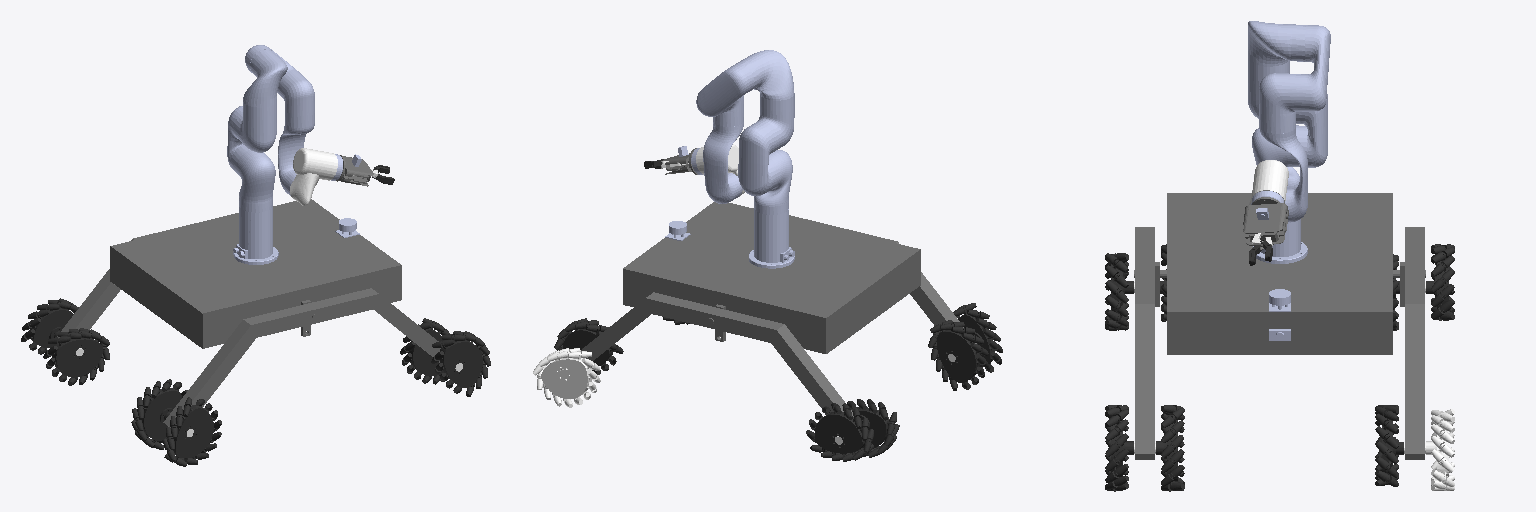
--- What the picture shows (computed from the rendered views, not written in the file) ---
3 views of the same robot in one strip: view 1: azimuth 30°, elevation 25°; view 2: azimuth 150°, elevation 25°; view 3: azimuth 270°, elevation 25° (orthographic).
Model knight_rover_new with 30 links and 29 joints (10 revolute, 4 continuous, 15 fixed), rooted at robot_base_link, posed all joints at 0.
Visible links, largest first — view 1: robot_base_link, right_suspension, link_2, BR_wheel_RR, BR_wheel_LR, FR_wheel_RR, link_1, BL_wheel_RR, arm_base_link, link_3, link_5, BL_wheel_LR (+4 smaller); view 2: robot_base_link, left_suspension, link_2, BL_wheel_RR, BL_wheel_LR, FL_wheel_LR, link_3, link_4, arm_base_link, link_1, FR_wheel_LR, BR_wheel_LR (+2 smaller); view 3: robot_base_link, left_suspension, right_suspension, link_2, link_3, FR_wheel_RR, FL_wheel_RR, FL_wheel_LR, FR_wheel_LR, BR_wheel_RR, BL_wheel_LR, gripper_base (+4 smaller).
Link boxes in pixels (bbox=[...]): robot_base_link: bbox=[110, 199, 401, 348]; right_suspension: bbox=[163, 288, 440, 427]; link_2: bbox=[227, 49, 287, 167]; BR_wheel_RR: bbox=[163, 397, 221, 466]; BR_wheel_LR: bbox=[43, 328, 109, 385]; FR_wheel_RR: bbox=[431, 331, 490, 396]; link_1: bbox=[231, 145, 275, 212]; BL_wheel_RR: bbox=[131, 379, 187, 449]; arm_base_link: bbox=[233, 207, 278, 264]; link_3: bbox=[245, 45, 314, 127]; link_5: bbox=[290, 148, 337, 205]; BL_wheel_LR: bbox=[21, 298, 78, 354]; robot_base_link: bbox=[623, 202, 920, 353]; left_suspension: bbox=[581, 292, 853, 416]; link_2: bbox=[736, 50, 794, 195]; BL_wheel_RR: bbox=[928, 320, 988, 390]; BL_wheel_LR: bbox=[806, 403, 873, 461]; FL_wheel_LR: bbox=[533, 348, 600, 407]; link_3: bbox=[696, 64, 753, 126]; link_4: bbox=[703, 122, 743, 203]; arm_base_link: bbox=[749, 209, 794, 268]; link_1: bbox=[754, 150, 792, 214]; FR_wheel_LR: bbox=[554, 318, 623, 374]; BR_wheel_LR: bbox=[847, 399, 899, 457]; robot_base_link: bbox=[1134, 193, 1425, 354]; left_suspension: bbox=[1400, 227, 1424, 459]; right_suspension: bbox=[1135, 227, 1159, 459]; link_2: bbox=[1248, 21, 1327, 167]; link_3: bbox=[1259, 25, 1330, 133]; FR_wheel_RR: bbox=[1105, 405, 1133, 491]; FL_wheel_RR: bbox=[1156, 405, 1184, 491]; FL_wheel_LR: bbox=[1426, 409, 1454, 490]; FR_wheel_LR: bbox=[1375, 405, 1403, 486]; BR_wheel_RR: bbox=[1105, 253, 1133, 330]; BL_wheel_LR: bbox=[1426, 244, 1454, 320]; gripper_base: bbox=[1243, 197, 1288, 245].
Size in the robot's own frame: 1.06 by 0.7978 by 0.9849 metres.
Meshes: 30 distinct files referenced, 30 mesh visuals loaded (30 binary STL).

robot.urdf — knight_rover_new:
<?xml version="1.0" encoding="utf-8"?>
<!-- This URDF was automatically created by SolidWorks to URDF Exporter! Originally created by Stephen Brawner ([email redacted]) 
     Commit Version: 1.6.0-4-g7f85cfe  Build Version: 1.6.7995.38578
     For more information, please see http://wiki.ros.org/sw_urdf_exporter -->
<robot
  name="knight_rover_new">
  <link
    name="robot_base_link">
    <inertial>
      <origin
        xyz="-3.51409534725501E-05 2.02030762991075E-17 0.054452787160501"
        rpy="0 0 0" />
      <mass
        value="35.9333306293393" />
      <inertia
        ixx="0.829440467624282"
        ixy="-3.19664415872315E-17"
        ixz="-1.261122050565E-05"
        iyy="1.26474036562949"
        iyz="9.12630764099463E-18"
        izz="2.0232174193065" />
    </inertial>
    <visual>
      <origin
        xyz="0 0 0"
        rpy="0 0 0" />
      <geometry>
        <mesh
          filename="package://knight_rover_new/meshes/robot_base_link.STL" />
      </geometry>
      <material
        name="">
        <color
          rgba="0.501960784313725 0.501960784313725 0.501960784313725 1" />
      </material>
    </visual>
    <collision>
      <origin
        xyz="0 0 0"
        rpy="0 0 0" />
      <geometry>
        <mesh
          filename="package://knight_rover_new/meshes/robot_base_link.STL" />
      </geometry>
    </collision>
  </link>
  <link
    name="left_suspension">
    <inertial>
      <origin
        xyz="1.72685688207314E-16 -0.0768469466497054 -0.00596606384240272"
        rpy="0 0 0" />
      <mass
        value="2.09033981771279" />
      <inertia
        ixx="0.0143822425075524"
        ixy="2.13129130361425E-17"
        ixz="-3.55136708633844E-18"
        iyy="0.151071620854433"
        iyz="-3.98388809734623E-05"
        izz="0.164728757444313" />
    </inertial>
    <visual>
      <origin
        xyz="0 0 0"
        rpy="0 0 0" />
      <geometry>
        <mesh
          filename="package://knight_rover_new/meshes/left_suspension.STL" />
      </geometry>
      <material
        name="">
        <color
          rgba="0.501960784313725 0.501960784313725 0.501960784313725 1" />
      </material>
    </visual>
    <collision>
      <origin
        xyz="0 0 0"
        rpy="0 0 0" />
      <geometry>
        <mesh
          filename="package://knight_rover_new/meshes/left_suspension.STL" />
      </geometry>
    </collision>
  </link>
  <joint
    name="left_suspension_joint"
    type="revolute">
    <origin
      xyz="-2.9695701971535E-05 0.301625 0.054456965"
      rpy="1.5707963267949 0 0" />
    <parent
      link="robot_base_link" />
    <child
      link="left_suspension" />
    <axis
      xyz="0 0 1" />
    <limit
      lower="-0.1722"
      upper="0.1722"
      effort="11"
      velocity="2" />
  </joint>
  <link
    name="F_shaft_LR">
    <inertial>
      <origin
        xyz="-0.000275564760709279 -0.000548784014590159 0"
        rpy="0 0 0" />
      <mass
        value="0.0732032651136589" />
      <inertia
        ixx="0.000144362575624441"
        ixy="1.94226191261808E-07"
        ixz="-2.41141585894578E-21"
        iyy="0.0001446518466667"
        iyz="1.85180087888106E-21"
        izz="5.64751116677257E-06" />
    </inertial>
    <visual>
      <origin
        xyz="0 0 0"
        rpy="0 0 0" />
      <geometry>
        <mesh
          filename="package://knight_rover_new/meshes/F_shaft_LR.STL" />
      </geometry>
      <material
        name="">
        <color
          rgba="1 1 1 1" />
      </material>
    </visual>
    <collision>
      <origin
        xyz="0 0 0"
        rpy="0 0 0" />
      <geometry>
        <mesh
          filename="package://knight_rover_new/meshes/F_shaft_LR.STL" />
      </geometry>
    </collision>
  </link>
  <joint
    name="F_shaft_LR_joint"
    type="continuous">
    <origin
      xyz="0.433046617948688 -0.235688617948681 -0.00635000000000002"
      rpy="0 0 0" />
    <parent
      link="left_suspension" />
    <child
      link="F_shaft_LR" />
    <axis
      xyz="0 0 1" />
  </joint>
  <link
    name="FL_wheel_LR">
    <inertial>
      <origin
        xyz="-0.00728768342739827 -0.0146448321390538 0.00050848063236375"
        rpy="0 0 0" />
      <mass
        value="0.549396445319131" />
      <inertia
        ixx="0.000445171241559337"
        ixy="9.78659019529863E-05"
        ixz="-6.94813455862534E-07"
        iyy="0.000593200318687097"
        iyz="3.02640502246261E-07"
        izz="0.000936282884274775" />
    </inertial>
    <visual>
      <origin
        xyz="0 0 0"
        rpy="0 0 0" />
      <geometry>
        <mesh
          filename="package://knight_rover_new/meshes/FL_wheel_LR.STL" />
      </geometry>
      <material
        name="">
        <color
          rgba="1 1 1 1" />
      </material>
    </visual>
    <collision>
      <origin
        xyz="0 0 0"
        rpy="0 0 0" />
      <geometry>
        <mesh
          filename="package://knight_rover_new/meshes/FL_wheel_LR.STL" />
      </geometry>
    </collision>
  </link>
  <joint
    name="FL_wheel_LR_joint"
    type="fixed">
    <origin
      xyz="0 0 -0.0635000000000001"
      rpy="0 0 0" />
    <parent
      link="F_shaft_LR" />
    <child
      link="FL_wheel_LR" />
    <axis
      xyz="0 0 0" />
  </joint>
  <link
    name="FR_wheel_LR">
    <inertial>
      <origin
        xyz="0.00740533402318116 0.0146161440808339 -0.000508480759078611"
        rpy="0 0 0" />
      <mass
        value="0.549396404481812" />
      <inertia
        ixx="0.000446634643970396"
        ixy="9.8954363392273E-05"
        ixz="6.92370335923828E-07"
        iyy="0.000591737101133644"
        iyz="-3.07507000713996E-07"
        izz="0.000936283087584822" />
    </inertial>
    <visual>
      <origin
        xyz="0 0 0"
        rpy="0 0 0" />
      <geometry>
        <mesh
          filename="package://knight_rover_new/meshes/FR_wheel_LR.STL" />
      </geometry>
      <material
        name="">
        <color
          rgba="0.250980392156863 0.250980392156863 0.250980392156863 1" />
      </material>
    </visual>
    <collision>
      <origin
        xyz="0 0 0"
        rpy="0 0 0" />
      <geometry>
        <mesh
          filename="package://knight_rover_new/meshes/FR_wheel_LR.STL" />
      </geometry>
    </collision>
  </link>
  <joint
    name="FR_wheel_LR_joint"
    type="fixed">
    <origin
      xyz="0 0 0.0635"
      rpy="0 0 0" />
    <parent
      link="F_shaft_LR" />
    <child
      link="FR_wheel_LR" />
    <axis
      xyz="0 0 0" />
  </joint>
  <link
    name="B_shaft_LR">
    <inertial>
      <origin
        xyz="-0.000102000774275024 -0.000605554022413884 -5.55111512312578E-17"
        rpy="0 0 0" />
      <mass
        value="0.0732032651136589" />
      <inertia
        ixx="0.000144278410024616"
        ixy="7.93302867395647E-08"
        ixz="-1.70773371535388E-20"
        iyy="0.000144736012266526"
        iyz="4.51423547668717E-21"
        izz="5.64751116677256E-06" />
    </inertial>
    <visual>
      <origin
        xyz="0 0 0"
        rpy="0 0 0" />
      <geometry>
        <mesh
          filename="package://knight_rover_new/meshes/B_shaft_LR.STL" />
      </geometry>
      <material
        name="">
        <color
          rgba="1 1 1 1" />
      </material>
    </visual>
    <collision>
      <origin
        xyz="0 0 0"
        rpy="0 0 0" />
      <geometry>
        <mesh
          filename="package://knight_rover_new/meshes/B_shaft_LR.STL" />
      </geometry>
    </collision>
  </link>
  <joint
    name="B_shaft_LR_joint"
    type="continuous">
    <origin
      xyz="-0.433046617948688 -0.235688617948681 -0.00635000000000002"
      rpy="0 0 0" />
    <parent
      link="left_suspension" />
    <child
      link="B_shaft_LR" />
    <axis
      xyz="0 0 1" />
  </joint>
  <link
    name="BL_wheel_LR">
    <inertial>
      <origin
        xyz="0.00266350646928726 0.0161679555464226 0.000510210330815108"
        rpy="0 0 0" />
      <mass
        value="0.547534762417823" />
      <inertia
        ixx="0.000399445213010371"
        ixy="3.90952412727286E-05"
        ixz="-7.49471063720292E-07"
        iyy="0.000630414635441886"
        iyz="8.43333194813395E-08"
        izz="0.000927863923073197" />
    </inertial>
    <visual>
      <origin
        xyz="0 0 0"
        rpy="0 0 0" />
      <geometry>
        <mesh
          filename="package://knight_rover_new/meshes/BL_wheel_LR.STL" />
      </geometry>
      <material
        name="">
        <color
          rgba="0.250980392156863 0.250980392156863 0.250980392156863 1" />
      </material>
    </visual>
    <collision>
      <origin
        xyz="0 0 0"
        rpy="0 0 0" />
      <geometry>
        <mesh
          filename="package://knight_rover_new/meshes/BL_wheel_LR.STL" />
      </geometry>
    </collision>
  </link>
  <joint
    name="BL_wheel_LR_joint"
    type="fixed">
    <origin
      xyz="0 0 -0.0635"
      rpy="0 0 0" />
    <parent
      link="B_shaft_LR" />
    <child
      link="BL_wheel_LR" />
    <axis
      xyz="0 0 0" />
  </joint>
  <link
    name="BR_wheel_LR">
    <inertial>
      <origin
        xyz="-0.00277533864218887 -0.0161213368308621 -0.000510210708511649"
        rpy="0 0 0" />
      <mass
        value="0.54753441534668" />
      <inertia
        ixx="0.000400031841409848"
        ixy="4.07852011130894E-05"
        ixz="7.48566841143591E-07"
        iyy="0.000629826877269507"
        iyz="-8.96933677215981E-08"
        izz="0.00092786281766356" />
    </inertial>
    <visual>
      <origin
        xyz="0 0 0"
        rpy="0 0 0" />
      <geometry>
        <mesh
          filename="package://knight_rover_new/meshes/BR_wheel_LR.STL" />
      </geometry>
      <material
        name="">
        <color
          rgba="0.250980392156863 0.250980392156863 0.250980392156863 1" />
      </material>
    </visual>
    <collision>
      <origin
        xyz="0 0 0"
        rpy="0 0 0" />
      <geometry>
        <mesh
          filename="package://knight_rover_new/meshes/BR_wheel_LR.STL" />
      </geometry>
    </collision>
  </link>
  <joint
    name="BR_wheel_LR_joint"
    type="fixed">
    <origin
      xyz="0 0 0.0635"
      rpy="0 0 0" />
    <parent
      link="B_shaft_LR" />
    <child
      link="BR_wheel_LR" />
    <axis
      xyz="0 0 0" />
  </joint>
  <link
    name="right_suspension">
    <inertial>
      <origin
        xyz="5.94858130497897E-17 -0.0768469466497054 0.00596606384240278"
        rpy="0 0 0" />
      <mass
        value="2.09033981771279" />
      <inertia
        ixx="0.0143822425075524"
        ixy="9.36229739103627E-19"
        ixz="-3.76479445289107E-19"
        iyy="0.151071620854433"
        iyz="3.98388809734629E-05"
        izz="0.164728757444313" />
    </inertial>
    <visual>
      <origin
        xyz="0 0 0"
        rpy="0 0 0" />
      <geometry>
        <mesh
          filename="package://knight_rover_new/meshes/right_suspension.STL" />
      </geometry>
      <material
        name="">
        <color
          rgba="0.501960784313725 0.501960784313725 0.501960784313725 1" />
      </material>
    </visual>
    <collision>
      <origin
        xyz="0 0 0"
        rpy="0 0 0" />
      <geometry>
        <mesh
          filename="package://knight_rover_new/meshes/right_suspension.STL" />
      </geometry>
    </collision>
  </link>
  <joint
    name="right_suspension_joint"
    type="revolute">
    <origin
      xyz="-2.96957019715361E-05 -0.301625 0.054456965"
      rpy="1.5707963267949 0 0" />
    <parent
      link="robot_base_link" />
    <child
      link="right_suspension" />
    <axis
      xyz="0 0 -1" />
    <limit
      lower="-0.1722"
      upper="0.1722"
      effort="11"
      velocity="2" />
    <mimic
      joint="left_suspension_joint"
      multiplier="-1"
      offset="0" />
  </joint>
  <link
    name="FR_shaft_RR">
    <inertial>
      <origin
        xyz="0.000533453219315305 0.0003041833243565 0"
        rpy="0 0 0" />
      <mass
        value="0.0732032651136589" />
      <inertia
        ixx="0.000144630537335569"
        ixy="2.08408008974911E-07"
        ixz="-1.51404603547328E-20"
        iyy="0.000144383884955572"
        iyz="-1.06677612253128E-20"
        izz="5.64751116677257E-06" />
    </inertial>
    <visual>
      <origin
        xyz="0 0 0"
        rpy="0 0 0" />
      <geometry>
        <mesh
          filename="package://knight_rover_new/meshes/FR_shaft_RR.STL" />
      </geometry>
      <material
        name="">
        <color
          rgba="1 1 1 1" />
      </material>
    </visual>
    <collision>
      <origin
        xyz="0 0 0"
        rpy="0 0 0" />
      <geometry>
        <mesh
          filename="package://knight_rover_new/meshes/FR_shaft_RR.STL" />
      </geometry>
    </collision>
  </link>
  <joint
    name="FR_shaft_RR_joint"
    type="continuous">
    <origin
      xyz="0.433046617948687 -0.235688617948681 0.00635000000000002"
      rpy="0 0 0" />
    <parent
      link="right_suspension" />
    <child
      link="FR_shaft_RR" />
    <axis
      xyz="0 0 -1" />
  </joint>
  <link
    name="FR_wheel_RR">
    <inertial>
      <origin
        xyz="0.0142396465975015 0.00805182697412571 -0.000510211445635955"
        rpy="0 0 0" />
      <mass
        value="0.547533595882271" />
      <inertia
        ixx="0.000577783923555976"
        ixy="0.000104467055038999"
        ixz="-4.04206874654229E-07"
        iyy="0.000452071101419828"
        iyz="6.36410608409607E-07"
        izz="0.000927859172549869" />
    </inertial>
    <visual>
      <origin
        xyz="0 0 0"
        rpy="0 0 0" />
      <geometry>
        <mesh
          filename="package://knight_rover_new/meshes/FR_wheel_RR.STL" />
      </geometry>
      <material
        name="">
        <color
          rgba="0.250980392156863 0.250980392156863 0.250980392156863 1" />
      </material>
    </visual>
    <collision>
      <origin
        xyz="0 0 0"
        rpy="0 0 0" />
      <geometry>
        <mesh
          filename="package://knight_rover_new/meshes/FR_wheel_RR.STL" />
      </geometry>
    </collision>
  </link>
  <joint
    name="FR_wheel_RR_joint"
    type="fixed">
    <origin
      xyz="0 0 0.0635"
      rpy="0 0 0" />
    <parent
      link="FR_shaft_RR" />
    <child
      link="FR_wheel_RR" />
    <axis
      xyz="0 0 0" />
  </joint>
  <link
    name="FL_wheel_RR">
    <inertial>
      <origin
        xyz="-0.0142050302316768 -0.00816775289066476 0.000510211625356249"
        rpy="0 0 0" />
      <mass
        value="0.547533424682197" />
      <inertia
        ixx="0.000576245395570839"
        ixy="0.000105376555008215"
        ixz="4.0892733889422E-07"
        iyy="0.00045360914424117"
        iyz="-6.33718153793749E-07"
        izz="0.000927858700994071" />
    </inertial>
    <visual>
      <origin
        xyz="0 0 0"
        rpy="0 0 0" />
      <geometry>
        <mesh
          filename="package://knight_rover_new/meshes/FL_wheel_RR.STL" />
      </geometry>
      <material
        name="">
        <color
          rgba="0.250980392156863 0.250980392156863 0.250980392156863 1" />
      </material>
    </visual>
    <collision>
      <origin
        xyz="0 0 0"
        rpy="0 0 0" />
      <geometry>
        <mesh
          filename="package://knight_rover_new/meshes/FL_wheel_RR.STL" />
      </geometry>
    </collision>
  </link>
  <joint
    name="FL_wheel_RR_joint"
    type="fixed">
    <origin
      xyz="0 0 -0.0634999999999999"
      rpy="0 0 0" />
    <parent
      link="FR_shaft_RR" />
    <child
      link="FL_wheel_RR" />
    <axis
      xyz="0 0 0" />
  </joint>
  <link
    name="BR_shaft_RR">
    <inertial>
      <origin
        xyz="-0.00055158733402455 0.000269909697784398 1.11022302462516E-16"
        rpy="0 0 0" />
      <mass
        value="0.0732032651136588" />
      <inertia
        ixx="0.000144655808484728"
        ixy="-1.91212128642016E-07"
        ixz="-3.56423135935016E-22"
        iyy="0.000144358613806413"
        iyz="-8.23017532900926E-22"
        izz="5.64751116677256E-06" />
    </inertial>
    <visual>
      <origin
        xyz="0 0 0"
        rpy="0 0 0" />
      <geometry>
        <mesh
          filename="package://knight_rover_new/meshes/BR_shaft_RR.STL" />
      </geometry>
      <material
        name="">
        <color
          rgba="1 1 1 1" />
      </material>
    </visual>
    <collision>
      <origin
        xyz="0 0 0"
        rpy="0 0 0" />
      <geometry>
        <mesh
          filename="package://knight_rover_new/meshes/BR_shaft_RR.STL" />
      </geometry>
    </collision>
  </link>
  <joint
    name="BR_shaft_RR_joint"
    type="continuous">
    <origin
      xyz="-0.433046617948688 -0.235688617948681 0.00635000000000002"
      rpy="0 0 0" />
    <parent
      link="right_suspension" />
    <child
      link="BR_shaft_RR" />
    <axis
      xyz="0 0 -1" />
  </joint>
  <link
    name="BL_wheel_RR">
    <inertial>
      <origin
        xyz="-0.0147189689674223 0.00713677642674698 0.000508480579083342"
        rpy="0 0 0" />
      <mass
        value="0.54939649950203" />
      <inertia
        ixx="0.000595196553459929"
        ixy="-9.63239653984878E-05"
        ixz="2.95483114421503E-07"
        iyy="0.00044317521459507"
        iyz="6.97887531231998E-07"
        izz="0.000936283088752324" />
    </inertial>
    <visual>
      <origin
        xyz="0 0 0"
        rpy="0 0 0" />
      <geometry>
        <mesh
          filename="package://knight_rover_new/meshes/BL_wheel_RR.STL" />
      </geometry>
      <material
        name="">
        <color
          rgba="0.250980392156863 0.250980392156863 0.250980392156863 1" />
      </material>
    </visual>
    <collision>
      <origin
        xyz="0 0 0"
        rpy="0 0 0" />
      <geometry>
        <mesh
          filename="package://knight_rover_new/meshes/BL_wheel_RR.STL" />
      </geometry>
    </collision>
  </link>
  <joint
    name="BL_wheel_RR_joint"
    type="fixed">
    <origin
      xyz="0 0 -0.0635"
      rpy="0 0 0" />
    <parent
      link="BR_shaft_RR" />
    <child
      link="BL_wheel_RR" />
    <axis
      xyz="0 0 0" />
  </joint>
  <link
    name="BR_wheel_RR">
    <inertial>
      <origin
        xyz="0.0146914842574465 -0.00725471731387628 -0.000508480710717518"
        rpy="0 0 0" />
      <mass
        value="0.549396458332006" />
      <inertia
        ixx="0.000593755941394788"
        ixy="-9.74422821912464E-05"
        ixz="-3.00374468849649E-07"
        iyy="0.00044461602097348"
        iyz="-6.95494593025691E-07"
        izz="0.000936283302375973" />
    </inertial>
    <visual>
      <origin
        xyz="0 0 0"
        rpy="0 0 0" />
      <geometry>
        <mesh
          filename="package://knight_rover_new/meshes/BR_wheel_RR.STL" />
      </geometry>
      <material
        name="">
        <color
          rgba="0.250980392156863 0.250980392156863 0.250980392156863 1" />
      </material>
    </visual>
    <collision>
      <origin
        xyz="0 0 0"
        rpy="0 0 0" />
      <geometry>
        <mesh
          filename="package://knight_rover_new/meshes/BR_wheel_RR.STL" />
      </geometry>
    </collision>
  </link>
  <joint
    name="BR_wheel_RR_joint"
    type="fixed">
    <origin
      xyz="0 0 0.0635000000000001"
      rpy="0 0 0" />
    <parent
      link="BR_shaft_RR" />
    <child
      link="BR_wheel_RR" />
    <axis
      xyz="0 0 0" />
  </joint>
  <link
    name="arm_base_link">
    <inertial>
      <origin
        xyz="-0.000473337349444795 -1.32028098241101E-05 0.07239105763563"
        rpy="0 0 0" />
      <mass
        value="1.14215420338987" />
      <inertia
        ixx="0.00307129989590757"
        ixy="-8.29782523845811E-07"
        ixz="-2.69723152811921E-05"
        iyy="0.00309572763575694"
        iyz="-7.52339424710022E-07"
        izz="0.00142221302621762" />
    </inertial>
    <visual>
      <origin
        xyz="0 0 0"
        rpy="0 0 0" />
      <geometry>
        <mesh
          filename="package://knight_rover_new/meshes/arm_base_link.STL" />
      </geometry>
      <material
        name="">
        <color
          rgba="0.796078431372549 0.823529411764706 0.937254901960784 1" />
      </material>
    </visual>
    <collision>
      <origin
        xyz="0 0 0"
        rpy="0 0 0" />
      <geometry>
        <mesh
          filename="package://knight_rover_new/meshes/arm_base_link.STL" />
      </geometry>
    </collision>
  </link>
  <joint
    name="arm_base_joint"
    type="fixed">
    <origin
      xyz="-2.96957019715774E-05 0 0.10891393"
      rpy="0 0 0" />
    <parent
      link="robot_base_link" />
    <child
      link="arm_base_link" />
    <axis
      xyz="0 0 0" />
  </joint>
  <link
    name="link_1">
    <inertial>
      <origin
        xyz="0.0001609257749607 0.0016542486333322 0.0894306454282655"
        rpy="0 0 0" />
      <mass
        value="1.30372267937163" />
      <inertia
        ixx="0.00388797981373484"
        ixy="-4.73943654259568E-05"
        ixz="-2.12784263562036E-05"
        iyy="0.00340484821040031"
        iyz="-0.000218825448076133"
        izz="0.00196023593370379" />
    </inertial>
    <visual>
      <origin
        xyz="0 0 0"
        rpy="0 0 0" />
      <geometry>
        <mesh
          filename="package://knight_rover_new/meshes/link_1.STL" />
      </geometry>
      <material
        name="">
        <color
          rgba="0.792156862745098 0.819607843137255 0.933333333333333 1" />
      </material>
    </visual>
    <collision>
      <origin
        xyz="0 0 0"
        rpy="0 0 0" />
      <geometry>
        <mesh
          filename="package://knight_rover_new/meshes/link_1.STL" />
      </geometry>
    </collision>
  </link>
  <joint
    name="joint_1"
    type="revolute">
    <origin
      xyz="0 0 0.149"
      rpy="0 0 0" />
    <parent
      link="arm_base_link" />
    <child
      link="link_1" />
    <axis
      xyz="0 0 -1" />
    <limit
      lower="0"
      upper="6.28"
      effort="11"
      velocity="2" />
  </joint>
  <link
    name="link_2">
    <inertial>
      <origin
        xyz="0.00515267177632115 -0.162155426957025 -0.048697506888309"
        rpy="0 0 0" />
      <mass
        value="2.97373660813915" />
      <inertia
        ixx="0.032416697732786"
        ixy="0.00297980399851198"
        ixz="-0.00041796955080189"
        iyy="0.00996767728350598"
        iyz="-0.00718854693664985"
        izz="0.0278574206306726" />
    </inertial>
    <visual>
      <origin
        xyz="0 0 0"
        rpy="0 0 0" />
      <geometry>
        <mesh
          filename="package://knight_rover_new/meshes/link_2.STL" />
      </geometry>
      <material
        name="">
        <color
          rgba="0.792156862745098 0.819607843137255 0.933333333333333 1" />
      </material>
    </visual>
    <collision>
      <origin
        xyz="0 0 0"
        rpy="0 0 0" />
      <geometry>
        <mesh
          filename="package://knight_rover_new/meshes/link_2.STL" />
      </geometry>
    </collision>
  </link>
  <joint
    name="joint_2"
    type="revolute">
    <origin
      xyz="0.00584283433916443 0.0601167305072813 0.12"
      rpy="-1.5707963267949 0 0" />
    <parent
      link="link_1" />
    <child
      link="link_2" />
    <axis
      xyz="-0.0967356678669598 0 -0.995310107736445" />
    <limit
      lower="-2.059"
      upper="2.059"
      effort="11"
      velocity="2" />
  </joint>
  <link
    name="link_3">
    <inertial>
      <origin
        xyz="0.0630408577620157 0.0757694506885519 -0.0147646662260461"
        rpy="0 0 0" />
      <mass
        value="1.45765626348279" />
      <inertia
        ixx="0.00668130977477114"
        ixy="-0.0017929100891192"
        ixz="0.00110761054523779"
        iyy="0.00505646223490394"
        iyz="0.00210611297284855"
        izz="0.00576711229445793" />
    </inertial>
    <visual>
      <origin
        xyz="0 0 0"
        rpy="0 0 0" />
      <geometry>
        <mesh
          filename="package://knight_rover_new/meshes/link_3.STL" />
      </geometry>
      <material
        name="">
        <color
          rgba="0.792156862745098 0.819607843137255 0.933333333333333 1" />
      </material>
    </visual>
    <collision>
      <origin
        xyz="0 0 0"
        rpy="0 0 0" />
      <geometry>
        <mesh
          filename="package://knight_rover_new/meshes/link_3.STL" />
      </geometry>
    </collision>
  </link>
  <joint
    name="joint_3"
    type="revolute">
    <origin
      xyz="0.0530599818434298 -0.28455 -0.00515697845398792"
      rpy="0 0 0" />
    <parent
      link="link_2" />
    <child
      link="link_3" />
    <axis
      xyz="-0.0967356678669596 0 -0.995310107736445" />
    <limit
      lower="0"
      upper="3.8"
      effort="11"
      velocity="3" />
  </joint>
  <link
    name="link_4">
    <inertial>
      <origin
        xyz="0.00285172535182038 -0.0260073155743561 0.128071893533833"
        rpy="0 0 0" />
      <mass
        value="0.681236676221464" />
      <inertia
        ixx="0.00500336376207618"
        ixy="2.58052982633528E-05"
        ixz="-2.97058981973094E-05"
        iyy="0.00481793575641137"
        iyz="0.000400073672270465"
        izz="0.000727383593164867" />
    </inertial>
    <visual>
      <origin
        xyz="0 0 0"
        rpy="0 0 0" />
      <geometry>
        <mesh
          filename="package://knight_rover_new/meshes/link_4.STL" />
      </geometry>
      <material
        name="">
        <color
          rgba="0.792156862745098 0.819607843137255 0.933333333333333 1" />
      </material>
    </visual>
    <collision>
      <origin
        xyz="0 0 0"
        rpy="0 0 0" />
      <geometry>
        <mesh
          filename="package://knight_rover_new/meshes/link_4.STL" />
      </geometry>
    </collision>
  </link>
  <joint
    name="joint_4"
    type="revolute">
    <origin
      xyz="0.078973918363873 0.16627 -0.0599206159702666"
      rpy="-1.5707963267949 0 0" />
    <parent
      link="link_3" />
    <child
      link="link_4" />
    <axis
      xyz="0 0 -1" />
    <limit
      lower="0"
      upper="6.28"
      effort="11"
      velocity="3" />
  </joint>
  <link
    name="link_5">
    <inertial>
      <origin
        xyz="0.0291584974688695 0.0507749995598583 0.0128930762141088"
        rpy="0 0 0" />
      <mass
        value="0.669420417496551" />
      <inertia
        ixx="0.00103371860797553"
        ixy="-0.000251634699326582"
        ixz="5.62375875106098E-05"
        iyy="0.00090602726270936"
        iyz="0.000124543757130044"
        izz="0.00143040032372536" />
    </inertial>
    <visual>
      <origin
        xyz="0 0 0"
        rpy="0 0 0" />
      <geometry>
        <mesh
          filename="package://knight_rover_new/meshes/link_5.STL" />
      </geometry>
      <material
        name="">
        <color
          rgba="1 1 1 1" />
      </material>
    </visual>
    <collision>
      <origin
        xyz="0 0 0"
        rpy="0 0 0" />
      <geometry>
        <mesh
          filename="package://knight_rover_new/meshes/link_5.STL" />
      </geometry>
    </collision>
  </link>
  <joint
    name="joint_5"
    type="revolute">
    <origin
      xyz="-0.000821285820190393 0.00845018281468242 0.205"
      rpy="-1.5707963267949 0 0" />
    <parent
      link="link_4" />
    <child
      link="link_5" />
    <axis
      xyz="0.09673566786696 0 -0.995310107736445" />
    <limit
      lower="-0.83"
      upper="2.9"
      effort="11"
      velocity="2" />
  </joint>
  <link
    name="end_effector">
    <inertial>
      <origin
        xyz="1.79542801708177E-05 -0.000122480752124877 0.00960614744993991"
        rpy="0 0 0" />
      <mass
        value="0.0806378641781996" />
      <inertia
        ixx="3.24265145588332E-05"
        ixy="8.12727483201834E-08"
        ixz="-8.01864845180532E-10"
        iyy="3.18840006785951E-05"
        iyz="5.47017248285367E-09"
        izz="5.90805865629779E-05" />
    </inertial>
    <visual>
      <origin
        xyz="0 0 0"
        rpy="0 0 0" />
      <geometry>
        <mesh
          filename="package://knight_rover_new/meshes/end_effector.STL" />
      </geometry>
      <material
        name="">
        <color
          rgba="0.792156862745098 0.819607843137255 0.933333333333333 1" />
      </material>
    </visual>
    <collision>
      <origin
        xyz="0 0 0"
        rpy="0 0 0" />
      <geometry>
        <mesh
          filename="package://knight_rover_new/meshes/end_effector.STL" />
      </geometry>
    </collision>
  </link>
  <joint
    name="end_effector_joint"
    type="revolute">
    <origin
      xyz="0.0877509500734849 0.0490789751008789 0.0135522051433748"
      rpy="1.47993501318796 -0.0336819095690923 1.21676367586924" />
    <parent
      link="link_5" />
    <child
      link="end_effector" />
    <axis
      xyz="0 0 -1" />
    <limit
      lower="0"
      upper="6.28"
      effort="11"
      velocity="2" />
  </joint>
  <link
    name="gripper_base">
    <inertial>
      <origin
        xyz="7.27866725197535E-06 -2.54134234375925E-06 0.0440536598355999"
        rpy="0 0 0" />
      <mass
        value="0.144340160157627" />
      <inertia
        ixx="0.00022110868647519"
        ixy="-3.32359338153028E-09"
        ixz="1.70035374836469E-08"
        iyy="0.000148303075670179"
        iyz="-5.93033833517005E-09"
        izz="0.000101455826246438" />
    </inertial>
    <visual>
      <origin
        xyz="0 0 0"
        rpy="0 0 0" />
      <geometry>
        <mesh
          filename="package://knight_rover_new/meshes/gripper_base.STL" />
      </geometry>
      <material
        name="">
        <color
          rgba="0.501960784313725 0.501960784313725 0.501960784313725 1" />
      </material>
    </visual>
    <collision>
      <origin
        xyz="0 0 0"
        rpy="0 0 0" />
      <geometry>
        <mesh
          filename="package://knight_rover_new/meshes/gripper_base.STL" />
      </geometry>
    </collision>
  </link>
  <joint
    name="gripper_base_joint"
    type="fixed">
    <origin
      xyz="0 0 0.0171450000000004"
      rpy="0 0 0.145551942518358" />
    <parent
      link="end_effector" />
    <child
      link="gripper_base" />
    <axis
      xyz="0 0 0" />
  </joint>
  <link
    name="gripper_right_arm">
    <inertial>
      <origin
        xyz="0.0415392668558663 -0.0199023574393599 0"
        rpy="0 0 0" />
      <mass
        value="0.0127678157416076" />
      <inertia
        ixx="1.42841391003647E-06"
        ixy="2.20816118501854E-06"
        ixz="2.69991751937308E-21"
        iyy="8.84983688817006E-06"
        iyz="2.64697796016969E-22"
        izz="1.00683678618661E-05" />
    </inertial>
    <visual>
      <origin
        xyz="0 0 0"
        rpy="0 0 0" />
      <geometry>
        <mesh
          filename="package://knight_rover_new/meshes/gripper_right_arm.STL" />
      </geometry>
      <material
        name="">
        <color
          rgba="1 1 1 1" />
      </material>
    </visual>
    <collision>
      <origin
        xyz="0 0 0"
        rpy="0 0 0" />
      <geometry>
        <mesh
          filename="package://knight_rover_new/meshes/gripper_right_arm.STL" />
      </geometry>
    </collision>
  </link>
  <joint
    name="gripper_right_arm_joint"
    type="revolute">
    <origin
      xyz="0 0.016625 0.048875"
      rpy="0 -1.5708 0" />
    <parent
      link="gripper_base" />
    <child
      link="gripper_right_arm" />
    <axis
      xyz="0 0 -1" />
    <limit
      lower="-1.22"
      upper="3"
      effort="11"
      velocity="2" />
  </joint>
  <link
    name="right_finger">
    <inertial>
      <origin
        xyz="0.0276161455829338 0.0142289865971562 4.20508949883214E-09"
        rpy="0 0 0" />
      <mass
        value="0.0111036338959234" />
      <inertia
        ixx="6.54555696498017E-07"
        ixy="-5.41073231378124E-07"
        ixz="1.56574589927725E-12"
        iyy="2.80864975234194E-06"
        iyz="-6.43183218014042E-14"
        izz="2.90512975962861E-06" />
    </inertial>
    <visual>
      <origin
        xyz="0 0 0"
        rpy="0 0 0" />
      <geometry>
        <mesh
          filename="package://knight_rover_new/meshes/right_finger.STL" />
      </geometry>
      <material
        name="">
        <color
          rgba="0.250980392156863 0.250980392156863 0.250980392156863 1" />
      </material>
    </visual>
    <collision>
      <origin
        xyz="0 0 0"
        rpy="0 0 0" />
      <geometry>
        <mesh
          filename="package://knight_rover_new/meshes/right_finger.STL" />
      </geometry>
    </collision>
  </link>
  <joint
    name="right_finger_joint"
    type="fixed">
    <origin
      xyz="0.0760387769781833 -0.0126821318025069 0"
      rpy="0 0 0" />
    <parent
      link="gripper_right_arm" />
    <child
      link="right_finger" />
    <axis
      xyz="0 0 0" />
  </joint>
  <link
    name="gripper_left_arm">
    <inertial>
      <origin
        xyz="0.0415392668558661 0.0199023574393599 -0.005"
        rpy="0 0 0" />
      <mass
        value="0.0127678157416076" />
      <inertia
        ixx="1.42841391003647E-06"
        ixy="-2.20816118501855E-06"
        ixz="3.20284333180532E-21"
        iyy="8.84983688817007E-06"
        iyz="6.61744490042422E-22"
        izz="1.00683678618661E-05" />
    </inertial>
    <visual>
      <origin
        xyz="0 0 0"
        rpy="0 0 0" />
      <geometry>
        <mesh
          filename="package://knight_rover_new/meshes/gripper_left_arm.STL" />
      </geometry>
      <material
        name="">
        <color
          rgba="1 1 1 1" />
      </material>
    </visual>
    <collision>
      <origin
        xyz="0 0 0"
        rpy="0 0 0" />
      <geometry>
        <mesh
          filename="package://knight_rover_new/meshes/gripper_left_arm.STL" />
      </geometry>
    </collision>
  </link>
  <joint
    name="gripper_left_arm_joint"
    type="revolute">
    <origin
      xyz="0.00500000000000006 -0.016625 0.0488750000000002"
      rpy="0 -1.5707963267949 0" />
    <parent
      link="gripper_base" />
    <child
      link="gripper_left_arm" />
    <axis
      xyz="0 0 -1" />
    <limit
      lower="-3"
      upper="1.22"
      effort="0"
      velocity="0" />
    <mimic
      joint="gripper_right_arm_joint"
      multiplier="-1"
      offset="0" />
  </joint>
  <link
    name="left_finger">
    <inertial>
      <origin
        xyz="0.0276961872778644 -0.0140725491537091 -7.52747492116512E-09"
        rpy="0 0 0" />
      <mass
        value="0.0111036375733557" />
      <inertia
        ixx="6.48503874948729E-07"
        ixy="5.28854334276947E-07"
        ixz="-1.95043967790815E-12"
        iyy="2.81470284721791E-06"
        iyz="6.03559944540348E-14"
        izz="2.90513051280574E-06" />
    </inertial>
    <visual>
      <origin
        xyz="0 0 0"
        rpy="0 0 0" />
      <geometry>
        <mesh
          filename="package://knight_rover_new/meshes/left_finger.STL" />
      </geometry>
      <material
        name="">
        <color
          rgba="0.250980392156863 0.250980392156863 0.250980392156863 1" />
      </material>
    </visual>
    <collision>
      <origin
        xyz="0 0 0"
        rpy="0 0 0" />
      <geometry>
        <mesh
          filename="package://knight_rover_new/meshes/left_finger.STL" />
      </geometry>
    </collision>
  </link>
  <joint
    name="left_finger_joint"
    type="fixed">
    <origin
      xyz="0.0760387769781832 0.012682131802507 -0.00500000000000006"
      rpy="0 0 0" />
    <parent
      link="gripper_left_arm" />
    <child
      link="left_finger" />
    <axis
      xyz="0 0 0" />
  </joint>
  <link
    name="camera">
    <inertial>
      <origin
        xyz="0 1.38777878078145E-17 -0.00860207027365847"
        rpy="0 0 0" />
      <mass
        value="0.00851529124922691" />
      <inertia
        ixx="5.72032823016265E-07"
        ixy="2.9778502051909E-22"
        ixz="-1.05879118406788E-22"
        iyy="5.72032823016265E-07"
        iyz="2.11758236813575E-22"
        izz="8.87510252850142E-07" />
    </inertial>
    <visual>
      <origin
        xyz="0 0 0"
        rpy="0 0 0" />
      <geometry>
        <mesh
          filename="package://knight_rover_new/meshes/camera.STL" />
      </geometry>
      <material
        name="">
        <color
          rgba="0.792156862745098 0.819607843137255 0.933333333333333 1" />
      </material>
    </visual>
    <collision>
      <origin
        xyz="0 0 0"
        rpy="0 0 0" />
      <geometry>
        <mesh
          filename="package://knight_rover_new/meshes/camera.STL" />
      </geometry>
    </collision>
  </link>
  <joint
    name="camrea_joint"
    type="fixed">
    <origin
      xyz="0.0328520109999999 0 0.0625450000000001"
      rpy="0 0 0" />
    <parent
      link="gripper_base" />
    <child
      link="camera" />
    <axis
      xyz="0 0 0" />
  </joint>
  <link
    name="lidar">
    <inertial>
      <origin
        xyz="0 3.74404642547556E-18 -0.0135429497587381"
        rpy="0 0 0" />
      <mass
        value="0.0474826021016631" />
      <inertia
        ixx="1.25526394009055E-05"
        ixy="-8.964432025108E-23"
        ixz="-5.16987882845643E-23"
        iyy="1.25526394009055E-05"
        iyz="3.79483572484895E-22"
        izz="1.58293239284705E-05" />
    </inertial>
    <visual>
      <origin
        xyz="0 0 0"
        rpy="0 0 0" />
      <geometry>
        <mesh
          filename="package://knight_rover_new/meshes/lidar.STL" />
      </geometry>
      <material
        name="">
        <color
          rgba="0.792156862745098 0.819607843137255 0.933333333333333 1" />
      </material>
    </visual>
    <collision>
      <origin
        xyz="0 0 0"
        rpy="0 0 0" />
      <geometry>
        <mesh
          filename="package://knight_rover_new/meshes/lidar.STL" />
      </geometry>
    </collision>
  </link>
  <joint
    name="lidar_joint"
    type="fixed">
    <origin
      xyz="0.29512 0 0.1432"
      rpy="0 0 0" />
    <parent
      link="robot_base_link" />
    <child
      link="lidar" />
    <axis
      xyz="0 0 0" />
  </joint>
  <link
    name="robot_camera">
    <inertial>
      <origin
        xyz="-0.0116366746085131 -3.63403427407853E-18 -5.38110887772951E-19"
        rpy="0 0 0" />
      <mass
        value="0.0184463231950522" />
      <inertia
        ixx="4.51140005391572E-06"
        ixy="-1.20361288382287E-22"
        ixz="5.62966126881018E-23"
        iyy="1.32731162797296E-06"
        iyz="5.27451670258981E-39"
        izz="3.97038118053296E-06" />
    </inertial>
    <visual>
      <origin
        xyz="0 0 0"
        rpy="0 0 0" />
      <geometry>
        <mesh
          filename="package://knight_rover_new/meshes/robot_camera.STL" />
      </geometry>
      <material
        name="">
        <color
          rgba="0.792156862745098 0.819607843137255 0.933333333333333 1" />
      </material>
    </visual>
    <collision>
      <origin
        xyz="0 0 0"
        rpy="0 0 0" />
      <geometry>
        <mesh
          filename="package://knight_rover_new/meshes/robot_camera.STL" />
      </geometry>
    </collision>
  </link>
  <joint
    name="robot_camera_joint"
    type="fixed">
    <origin
      xyz="0.339568304298028 0 0.054456965"
      rpy="0 0 0" />
    <parent
      link="robot_base_link" />
    <child
      link="robot_camera" />
    <axis
      xyz="0 0 0" />
  </joint>
</robot>
